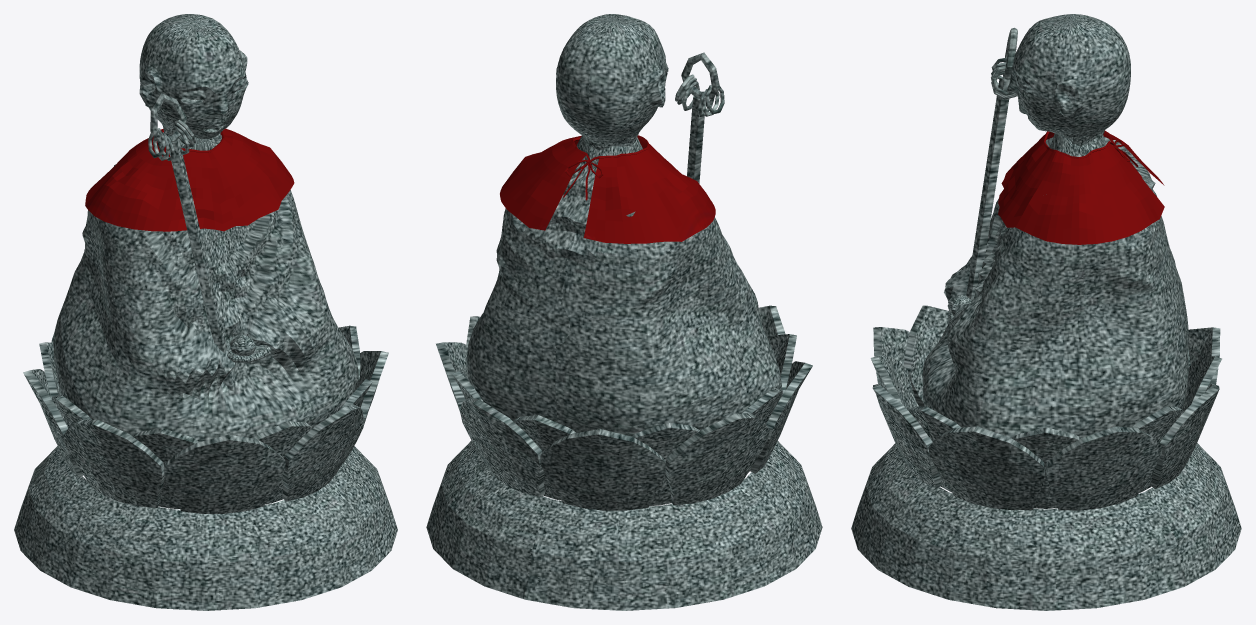
File: s_jizo.glb
The picture shows the model from 3 angles, left to right: view 1: azimuth 30°, elevation 25°; view 2: azimuth 150°, elevation 25°; view 3: azimuth 270°, elevation 25°; orthographic projection. The views are drawn at different scales.
Parts seen in each view (by area): view 1: jizo2; view 2: jizo2; view 3: jizo2.
Part boxes in pixels (x1,y1,x2,y2): jizo2: (14, 14, 397, 610); jizo2: (426, 14, 822, 610); jizo2: (851, 14, 1241, 610).
Size of the model in its own units: 0.9748 by 1.4 by 0.9748.
1 material, 1 textured.
